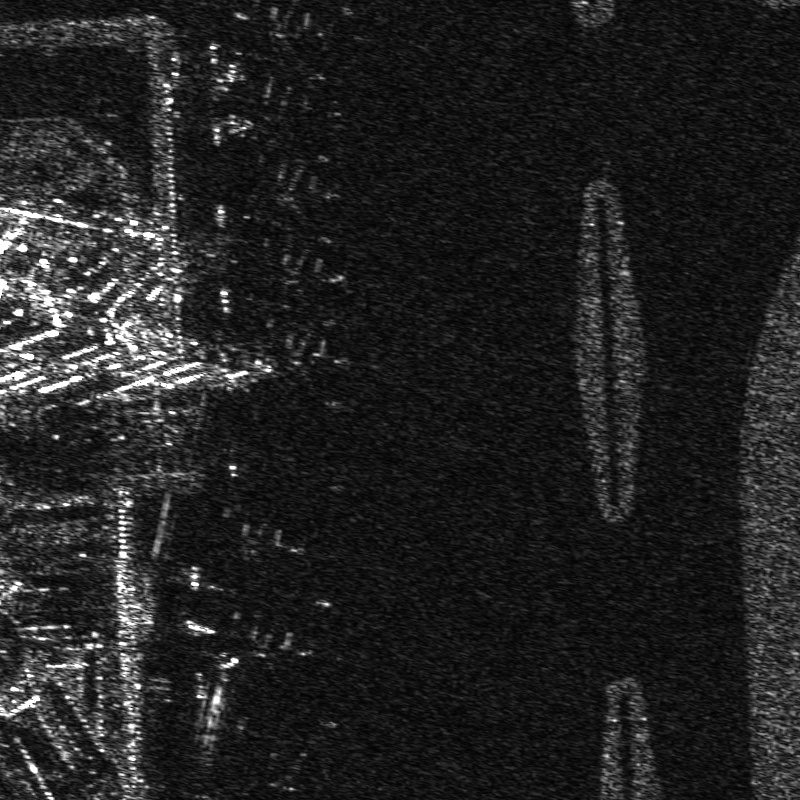A220: (248, 162, 349, 235), (286, 336, 383, 409), (275, 248, 358, 326), (262, 1, 344, 79), (221, 623, 319, 688)
